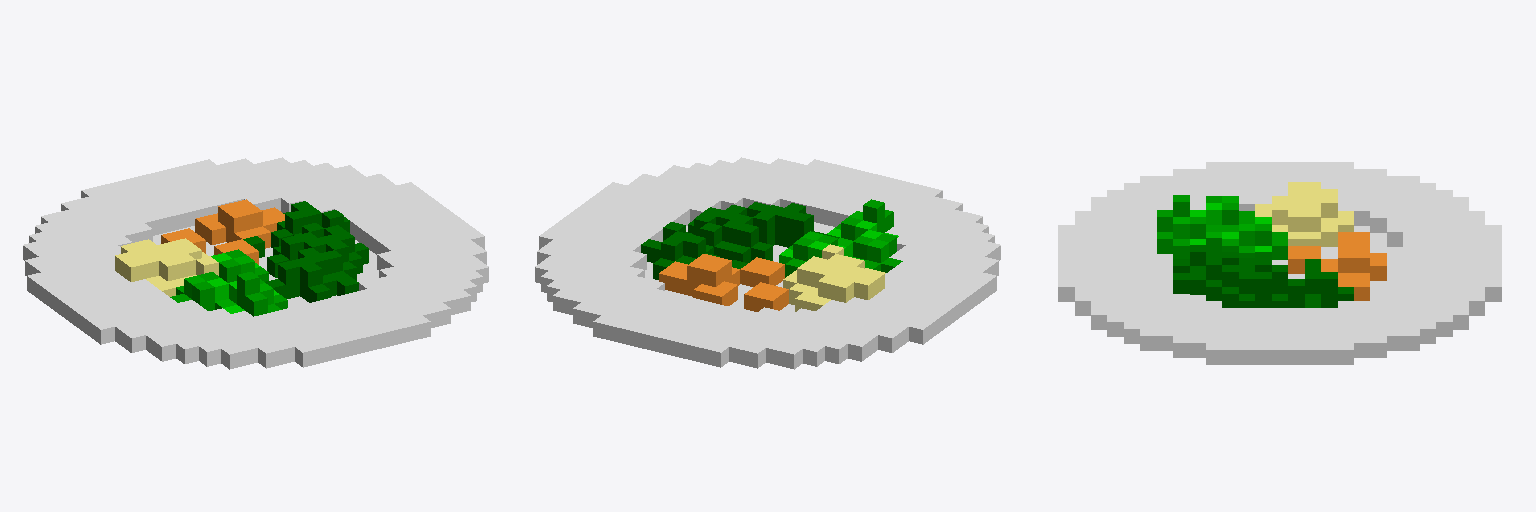
3 views of the same model, side by side, from view 1: azimuth 30°, elevation 25°; view 2: azimuth 150°, elevation 25°; view 3: azimuth 270°, elevation 25° (orthographic).
Visible parts, largest first — view 1: object 1; view 2: object 1; view 3: object 1.
Part boxes in pixels (left/top/right/bottom): object 1: left=23, top=157, right=488, bottom=369; object 1: left=535, top=157, right=1000, bottom=369; object 1: left=1058, top=162, right=1501, bottom=364.
Size of the model in its own units: 2.7 by 0.4 by 2.7.
1 materials, 1 textured.